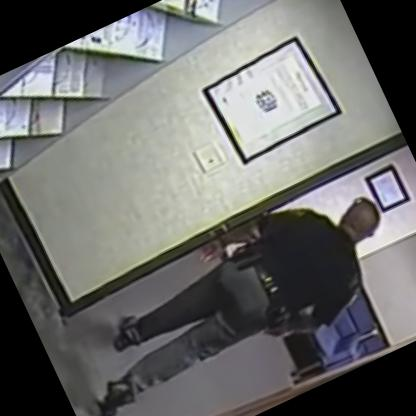Human Body: (46, 163, 415, 415)
